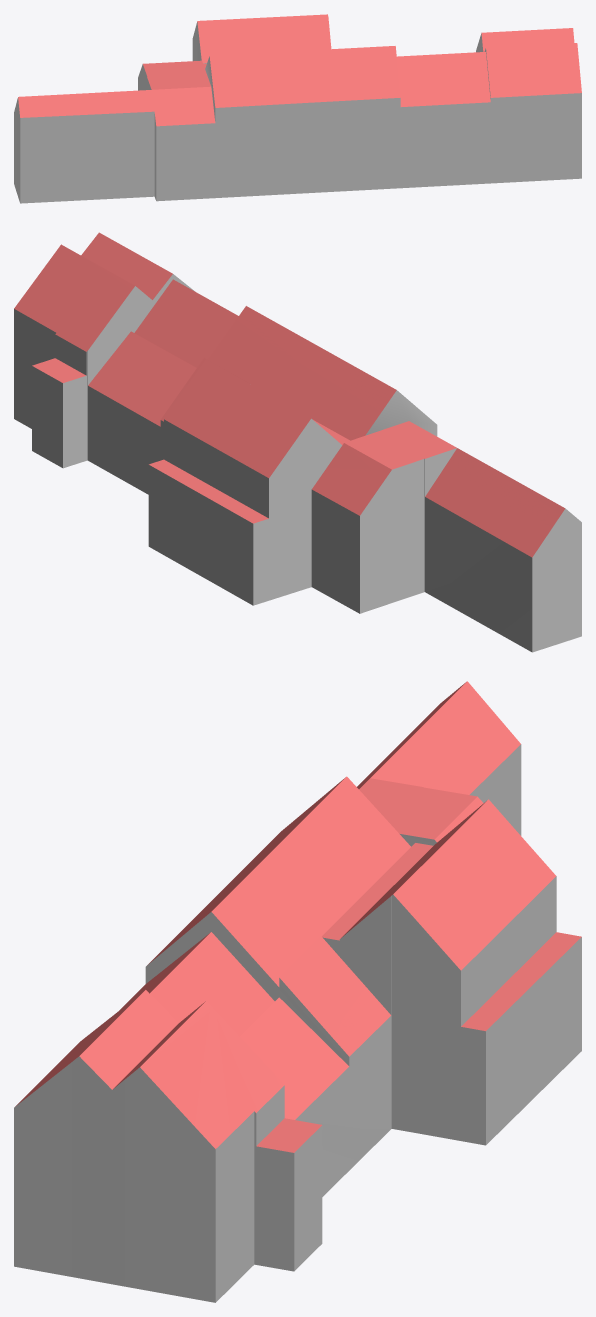
The model's file is DEBY_LOD2_4959319.gltf.
The picture shows the model from 3 angles, top to bottom: view 1: azimuth 30°, elevation 25°; view 2: azimuth 150°, elevation 25°; view 3: azimuth 270°, elevation 25°; orthographic projection. The views are drawn at different scales.
Parts seen in each view (by area): view 1: Z_UP; view 2: Z_UP; view 3: Z_UP.
Part boxes in pixels (<box>): Z_UP: <box>14,14,581,203</box>; Z_UP: <box>14,232,581,652</box>; Z_UP: <box>14,681,581,1302</box>.
Bounding box in the file's own units: 74.59 × 18.55 × 40.62.
